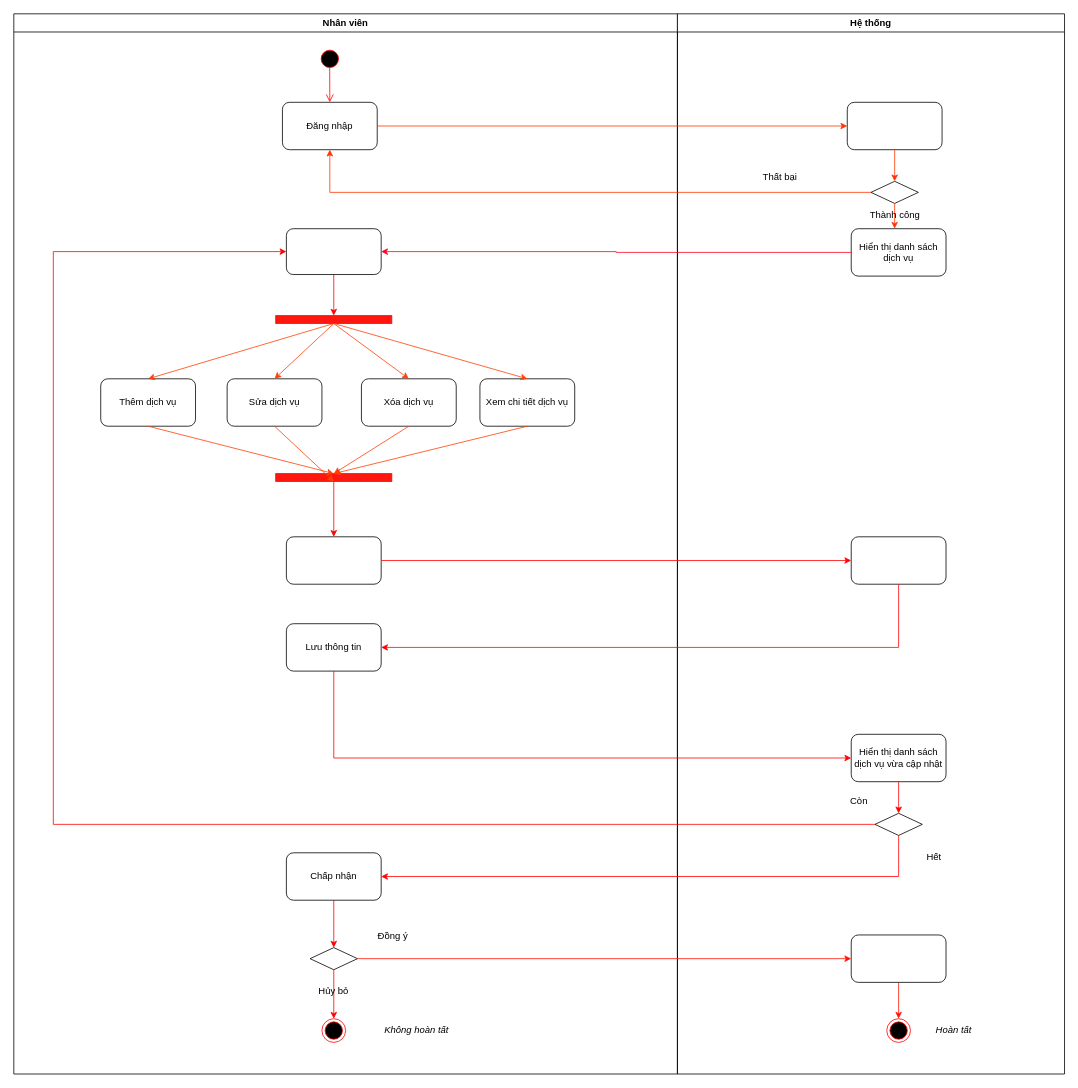
The diagram is 1078 pixels wide and 1088 high, and some of its shapes have lost their labels. The centre of each missing label's shape, as x and y in pixels:
Cung cấp thông tin phản hồi: point 898,560
Kiểm tra mật khẩu: point 894,126
Lựa chọn chức năng: point 333,251
Nhập thông tin dịch vụ: point 333,560
Thông báo thành công: point 898,958
